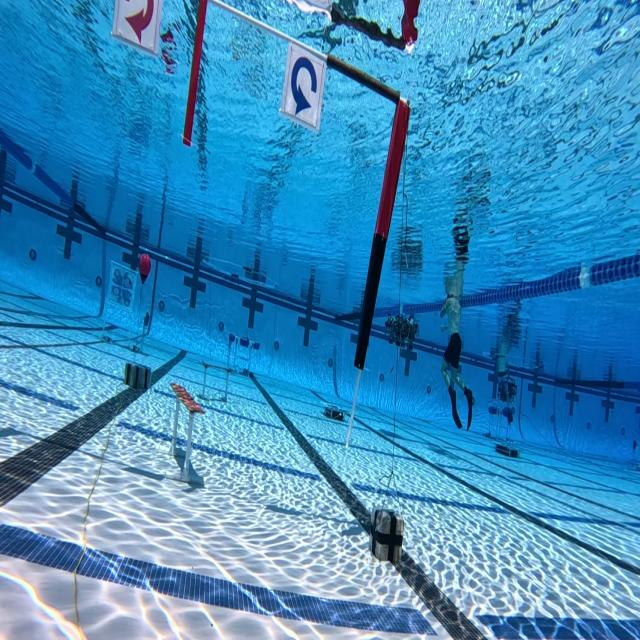blue_side: (284, 30, 324, 123)
